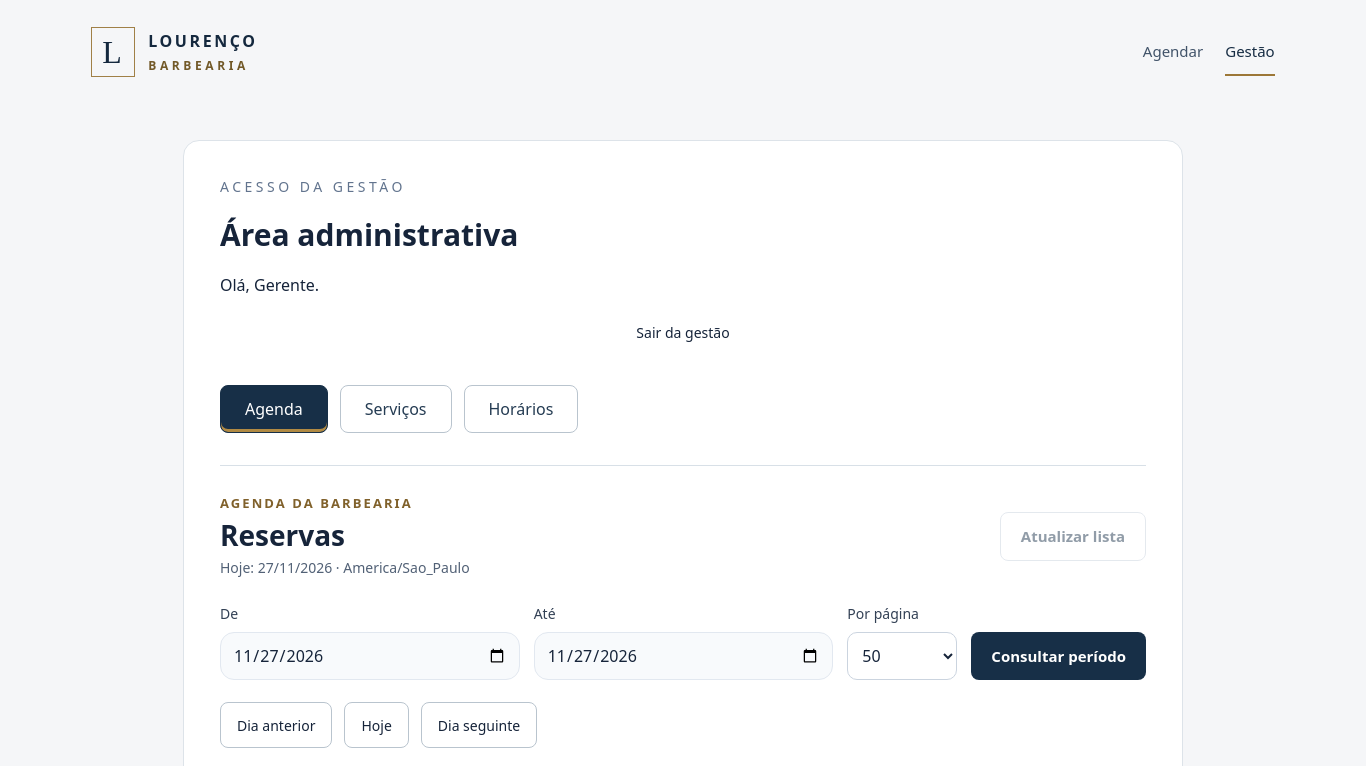
it: loads server configuration without inventing hours and shows date records
Click the button "Horários".
click(521, 409)  # box [464,385,578,433]
(page scrolled)
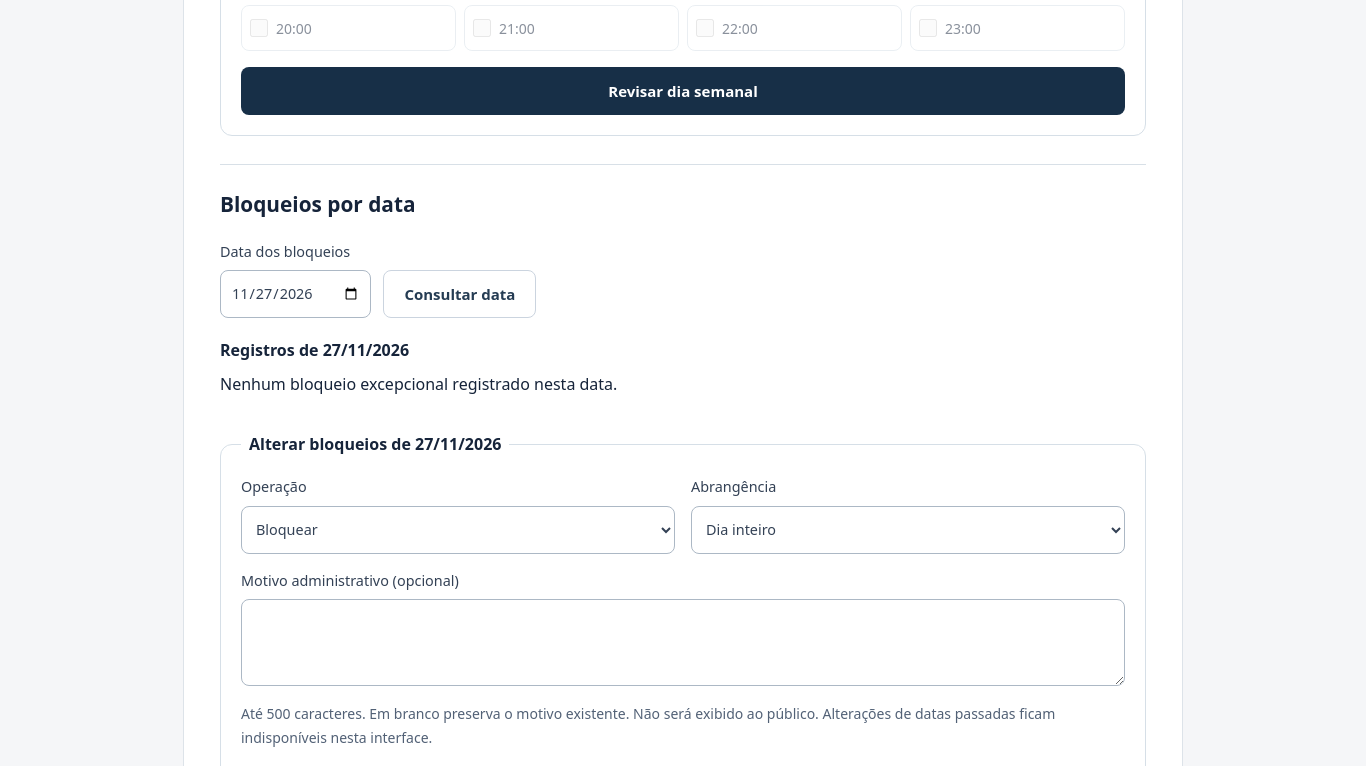
Result: the text "Nenhum bloqueio excepcional registrado nesta data." is shown at [220,373,617,395]
